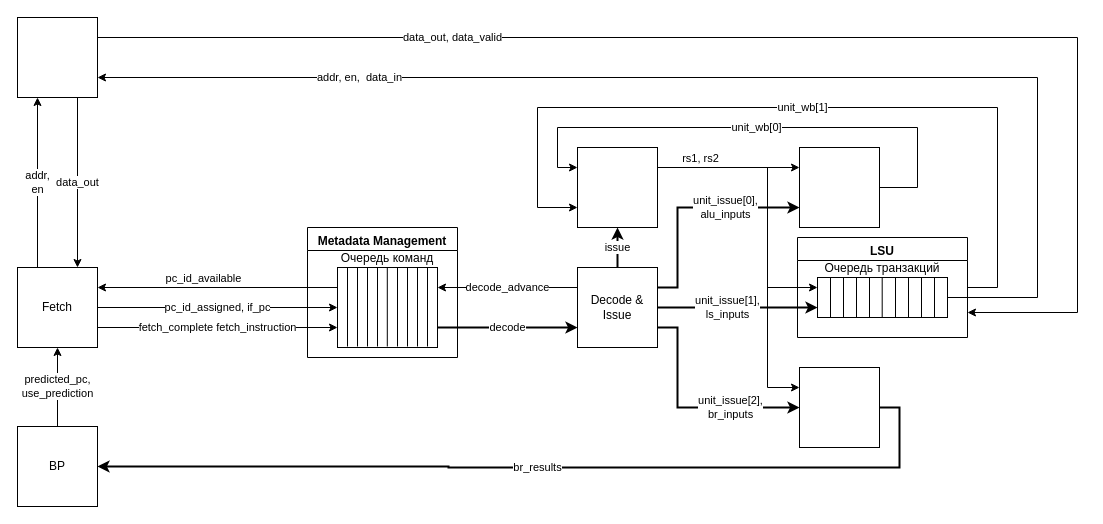
Image size: 1103x524. Some labels were removed from this diagram. The shapes that lost their labels are listed below. From the top down, each one's box as (x1, y1, x2, y2) in pixels, then its label:
(16, 16, 98, 98): RAM
(576, 146, 658, 228): Registers
(798, 146, 880, 228): ALU
(798, 366, 880, 448): Branch Unit
